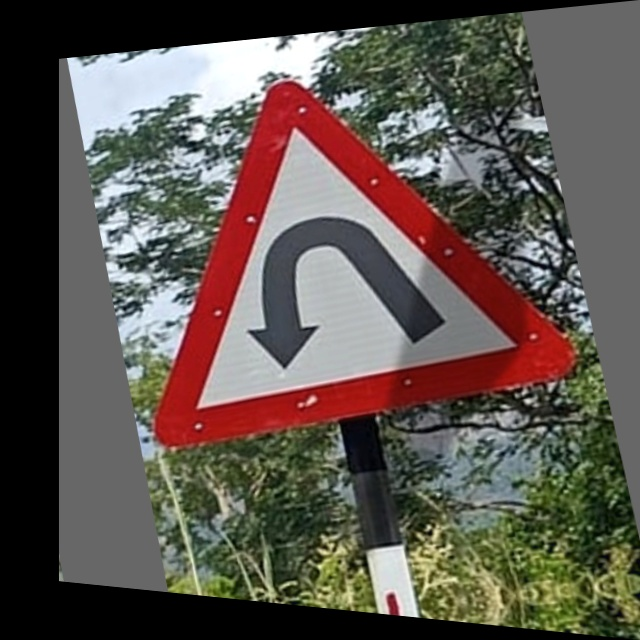Left_Hair_Pin_Bend: (105, 20, 573, 468)
